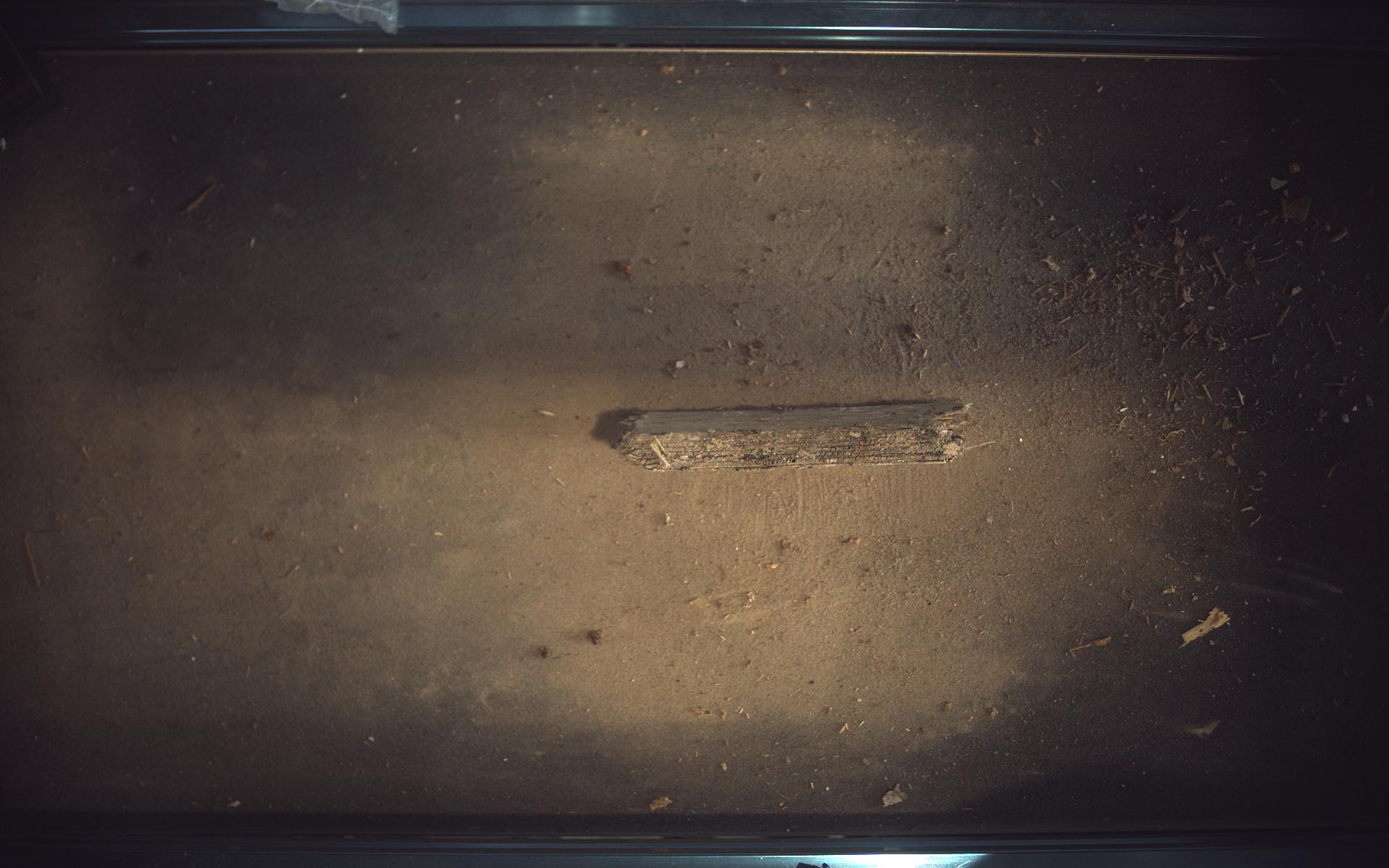wood: (592, 399, 968, 471)
